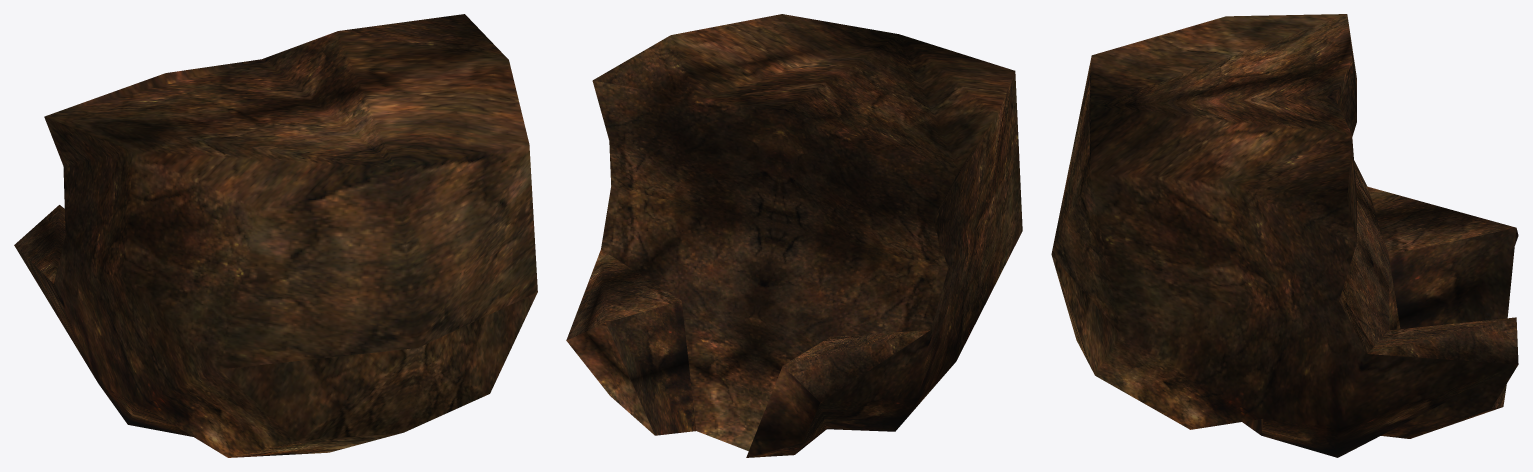
Rendered from head_s1.obj.
3 renders of one model, left to right at view 1: azimuth 30°, elevation 25°; view 2: azimuth 150°, elevation 25°; view 3: azimuth 270°, elevation 25°, orthographic. The views are drawn at different scales.
Visible parts, largest first — view 1: (null); view 2: (null); view 3: (null).
Boxes of the visible parts, x1,y1,x2,y2 form: (null): (14,14,537,457); (null): (566,14,1022,457); (null): (1051,14,1518,457).
Bounding box in the file's own units: 4.3 × 3.63 × 4.57.
